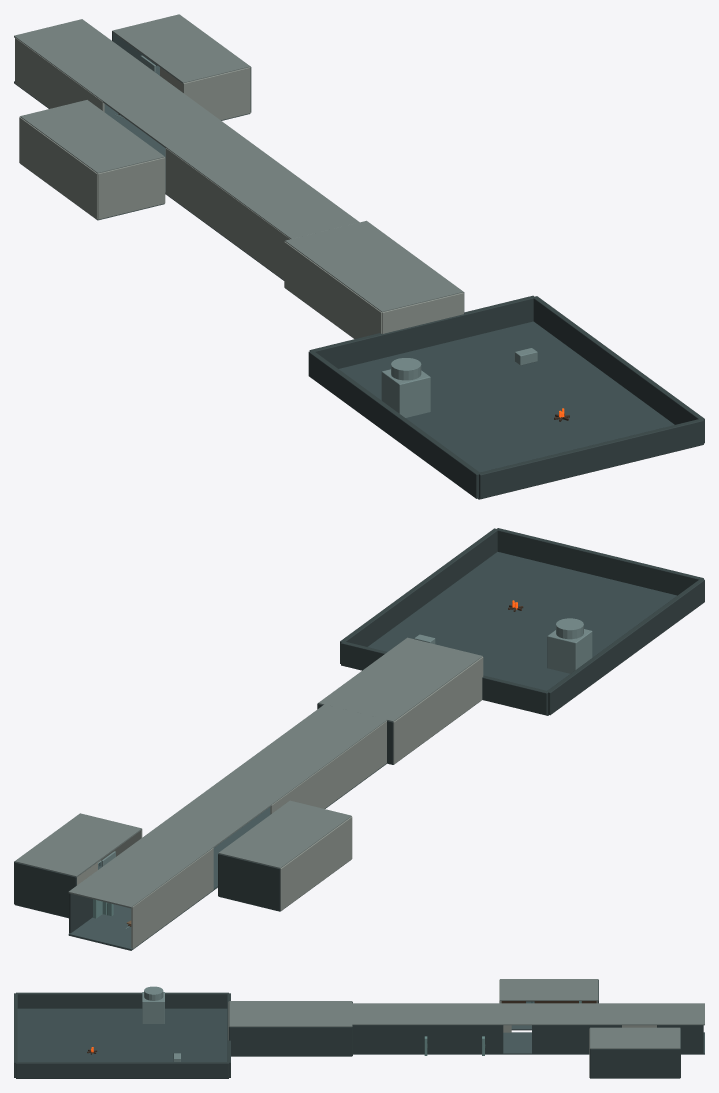
Rendered from two-chapter-route.glb.
3 views of the same model, one above another, from view 1: azimuth 30°, elevation 25°; view 2: azimuth 150°, elevation 25°; view 3: azimuth 270°, elevation 25° (orthographic). The views are drawn at different scales.
Parts seen in each view (by area): view 1: Rooftop_Floor, Corridor_Ceiling, Stairwell_Ceiling, Rooftop_Parapet_North, Corridor_LeftWall_1, Rooftop_Parapet_South, Broadcast_Ceiling, Rooftop_Parapet_West, Infirmary_Ceiling, Rooftop_Parapet_East, Stairwell_LeftWall, Broadcast_LeftWall (+7 smaller); view 2: Rooftop_Floor, Corridor_Ceiling, Stairwell_Ceiling, Rooftop_Parapet_North, Broadcast_Ceiling, Rooftop_Parapet_West, Infirmary_Ceiling, Stairwell_LeftWall, Rooftop_Parapet_East, Corridor_LeftWall_1, Corridor_LeftWall_0, Broadcast_LeftWall (+6 smaller); view 3: Rooftop_Floor, Corridor_Ceiling, Corridor_RightWall_2, Stairwell_RightWall, Rooftop_Parapet_East, Stairwell_Ceiling, Rooftop_Parapet_West, Infirmary_RightWall, Broadcast_Ceiling, Infirmary_Ceiling, Corridor_RightWall_1, Corridor_Floor (+7 smaller).
Boxes of the visible parts, x1=… form: Rooftop_Floor: x1=339, y1=321, x2=674, y2=499; Corridor_Ceiling: x1=14, y1=19, x2=359, y2=238; Stairwell_Ceiling: x1=285, y1=220, x2=463, y2=312; Rooftop_Parapet_North: x1=478, y1=419, x2=703, y2=499; Corridor_LeftWall_1: x1=165, y1=148, x2=286, y2=279; Rooftop_Parapet_South: x1=309, y1=295, x2=533, y2=368; Broadcast_Ceiling: x1=20, y1=100, x2=164, y2=173; Rooftop_Parapet_West: x1=308, y1=351, x2=479, y2=498; Infirmary_Ceiling: x1=112, y1=14, x2=250, y2=83; Rooftop_Parapet_East: x1=533, y1=296, x2=704, y2=443; Stairwell_LeftWall: x1=284, y1=241, x2=381, y2=338; Broadcast_LeftWall: x1=19, y1=117, x2=97, y2=219; Rooftop_Floor: x1=368, y1=552, x2=676, y2=715; Corridor_Ceiling: x1=68, y1=704, x2=387, y2=908; Stairwell_Ceiling: x1=318, y1=637, x2=482, y2=721; Rooftop_Parapet_North: x1=497, y1=528, x2=703, y2=595; Broadcast_Ceiling: x1=218, y1=800, x2=351, y2=868; Rooftop_Parapet_West: x1=547, y1=579, x2=704, y2=715; Infirmary_Ceiling: x1=14, y1=813, x2=141, y2=876; Stairwell_LeftWall: x1=393, y1=656, x2=483, y2=764; Rooftop_Parapet_East: x1=340, y1=528, x2=497, y2=663; Corridor_LeftWall_1: x1=270, y1=724, x2=382, y2=814; Corridor_LeftWall_0: x1=131, y1=848, x2=213, y2=948; Broadcast_LeftWall: x1=280, y1=816, x2=352, y2=910; Rooftop_Floor: x1=16, y1=1008, x2=228, y2=1078; Corridor_Ceiling: x1=352, y1=1003, x2=704, y2=1025; Corridor_RightWall_2: x1=354, y1=1025, x2=503, y2=1053; Stairwell_RightWall: x1=229, y1=1027, x2=352, y2=1056; Rooftop_Parapet_East: x1=16, y1=1062, x2=228, y2=1078; Stairwell_Ceiling: x1=229, y1=1001, x2=352, y2=1026; Rooftop_Parapet_West: x1=16, y1=992, x2=228, y2=1008; Infirmary_RightWall: x1=590, y1=1049, x2=680, y2=1078; Broadcast_Ceiling: x1=500, y1=979, x2=598, y2=1000; Infirmary_Ceiling: x1=590, y1=1027, x2=680, y2=1048; Corridor_RightWall_1: x1=532, y1=1025, x2=621, y2=1053; Corridor_Floor: x1=353, y1=1032, x2=704, y2=1054.
Size of the model in its own units: 20.45 by 4.1 by 84.22.
